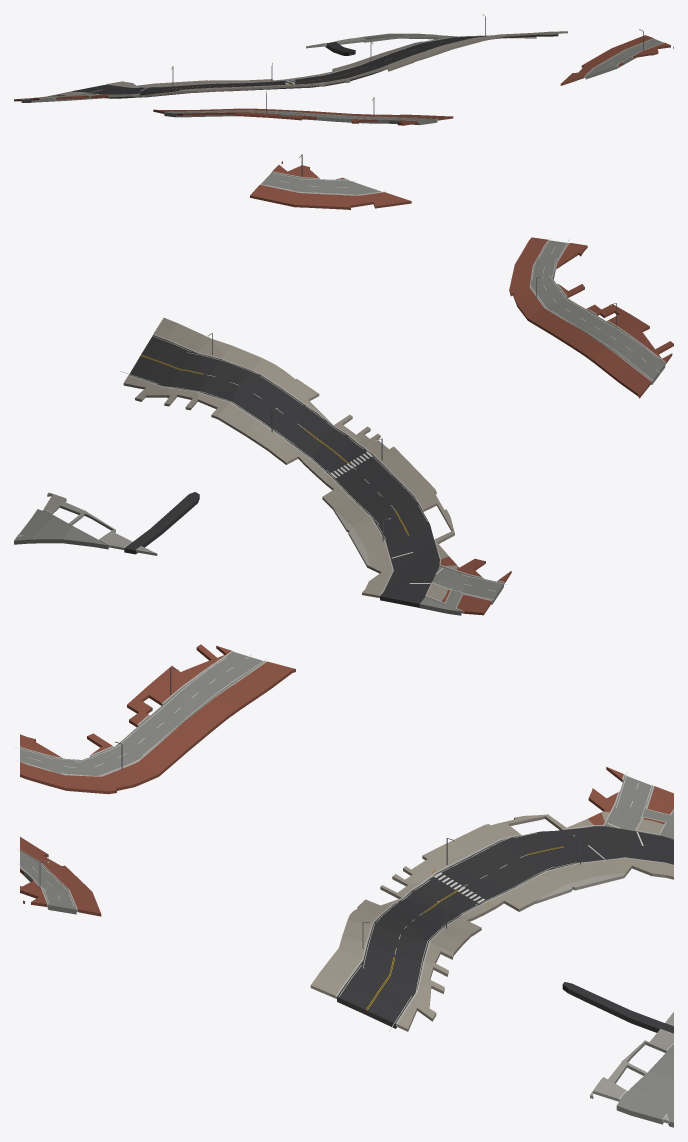
The picture shows the model from 3 angles, top to bottom: view 1: azimuth 30°, elevation 25°; view 2: azimuth 150°, elevation 25°; view 3: azimuth 270°, elevation 25°; orthographic projection. The views are drawn at different scales.
Size of the model in its own units: 152 by 61.35 by 147.
